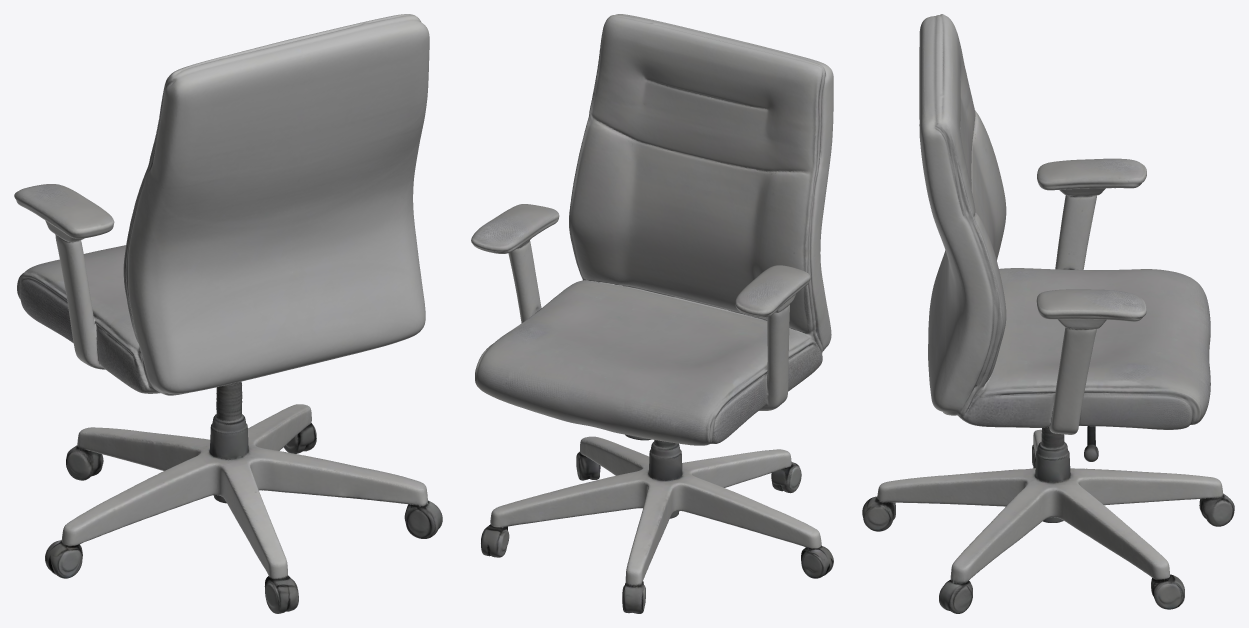
Rendered from modern_office_chair_padded_06.glb.
3 renders of one model, left to right at view 1: azimuth 30°, elevation 25°; view 2: azimuth 150°, elevation 25°; view 3: azimuth 270°, elevation 25°, orthographic. The views are drawn at different scales.
Parts seen in each view (by area): view 1: tripo_node_97e16bce-045f-4318-8d27-a763e19f0655; view 2: tripo_node_97e16bce-045f-4318-8d27-a763e19f0655; view 3: tripo_node_97e16bce-045f-4318-8d27-a763e19f0655.
Boxes of the visible parts, left/top/right/bottom form: tripo_node_97e16bce-045f-4318-8d27-a763e19f0655: left=14, top=14, right=442, bottom=613; tripo_node_97e16bce-045f-4318-8d27-a763e19f0655: left=471, top=14, right=833, bottom=613; tripo_node_97e16bce-045f-4318-8d27-a763e19f0655: left=862, top=14, right=1234, bottom=613.
Size of the model in its own units: 0.7127 by 1 by 0.6952.
Materials: 1 (1 with a texture image).
